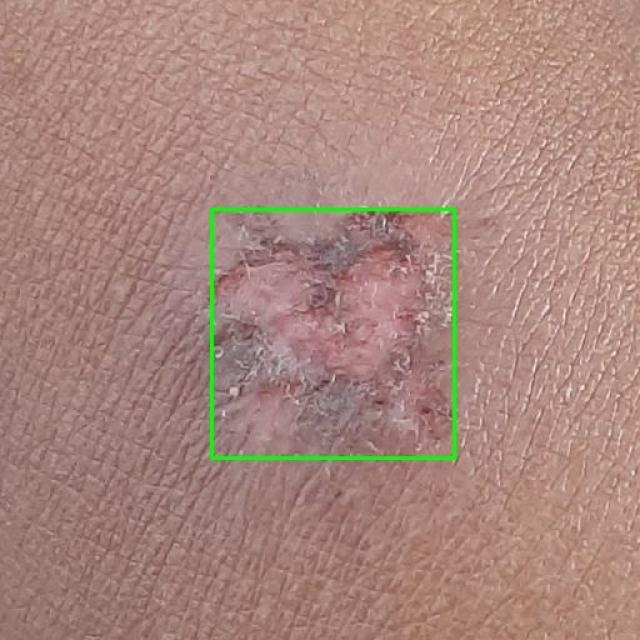Contact Dermatitis: (211, 209, 454, 458)
